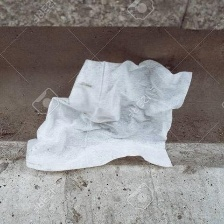tissue: (19, 52, 200, 178)
